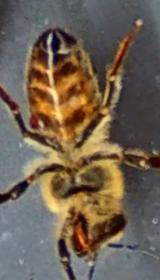varroa_mite: (16, 99, 62, 142)
